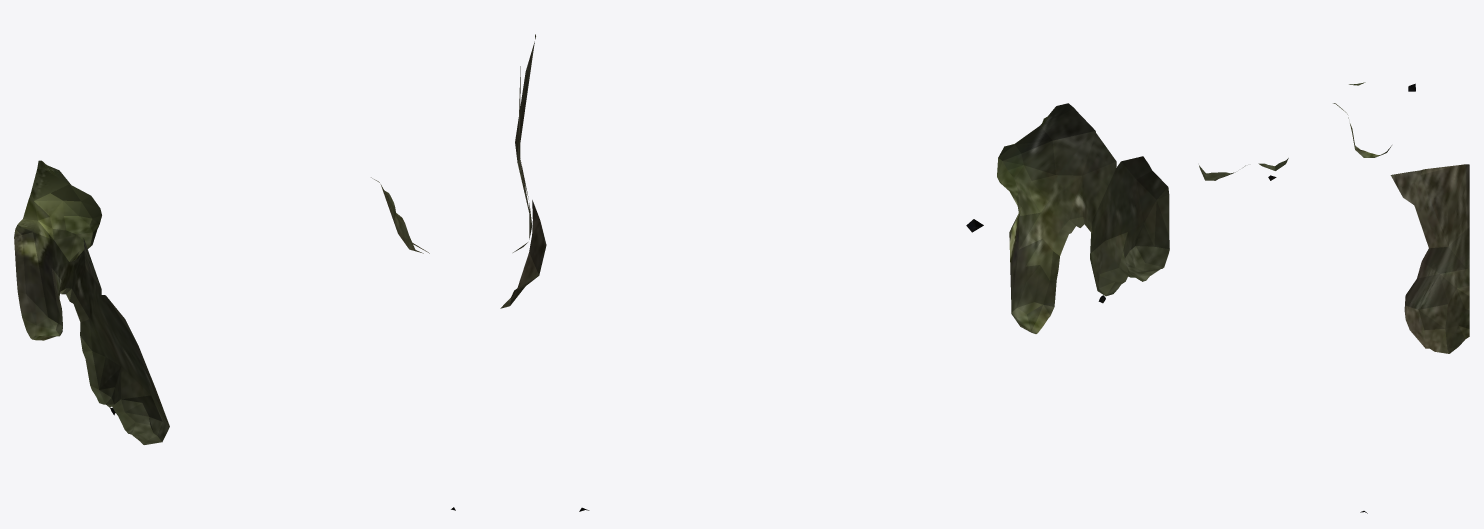
The picture shows the model from 3 angles, left to right: view 1: azimuth 30°, elevation 25°; view 2: azimuth 150°, elevation 25°; view 3: azimuth 270°, elevation 25°; orthographic projection. The views are drawn at different scales.
Size of the model in its own units: 5.9 by 5.9 by 4.2.
1 material, 1 textured.
